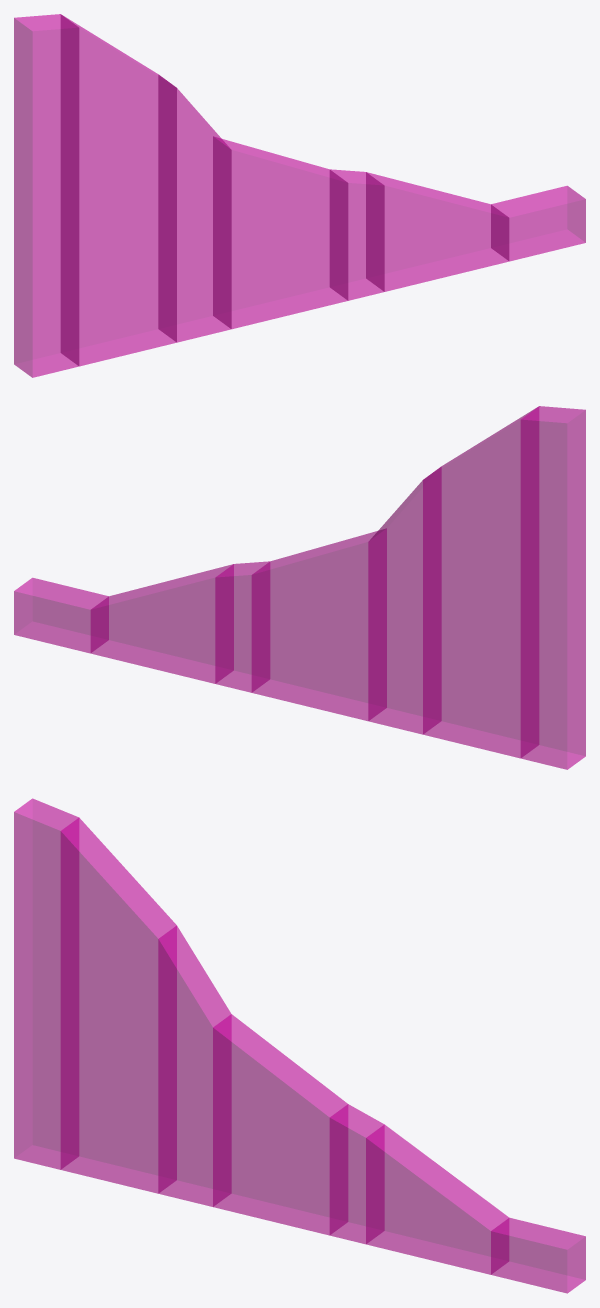
The model's file is SM_Bld_Wall_L_Damaged_Double_03_Alt_01_Collision.fbx.
The picture shows the model from 3 angles, top to bottom: view 1: azimuth 30°, elevation 25°; view 2: azimuth 150°, elevation 25°; view 3: azimuth 330°, elevation 25°; orthographic projection.
Visible parts, largest first — view 1: SM_Bld_Wall_L_Damaged_Double_03_Alt_01_Collision; view 2: SM_Bld_Wall_L_Damaged_Double_03_Alt_01_Collision; view 3: SM_Bld_Wall_L_Damaged_Double_03_Alt_01_Collision.
Part boxes in pixels (x1,y1,x2,y2): SM_Bld_Wall_L_Damaged_Double_03_Alt_01_Collision: (14, 14, 585, 377); SM_Bld_Wall_L_Damaged_Double_03_Alt_01_Collision: (14, 406, 585, 769); SM_Bld_Wall_L_Damaged_Double_03_Alt_01_Collision: (14, 798, 585, 1293).
Bounding box in the file's own units: 1014 × 607 × 58.74.
